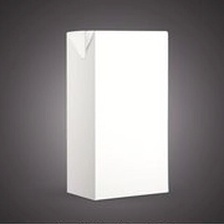carton: (53, 22, 177, 205)
